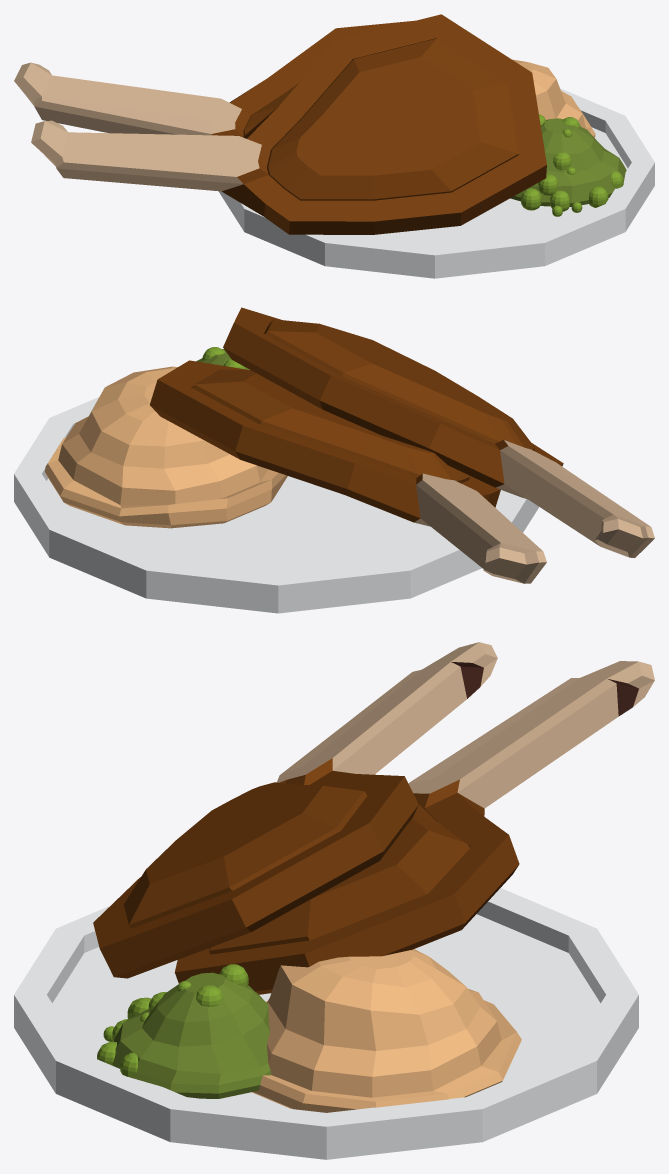
File: Lambchops.fbx
3 views of the same model, one above another, from view 1: azimuth 30°, elevation 25°; view 2: azimuth 150°, elevation 25°; view 3: azimuth 270°, elevation 25° (orthographic). The views are drawn at different scales.
Visible parts, largest first — view 1: Plate; view 2: Plate; view 3: Plate.
Boxes of the visible parts, box(x1,y1,x2,y2) form: Plate: box(14, 14, 654, 278); Plate: box(14, 307, 654, 613); Plate: box(14, 642, 654, 1159).
Size of the model in its own units: 441 by 120 by 317.
1 material, 1 textured.
